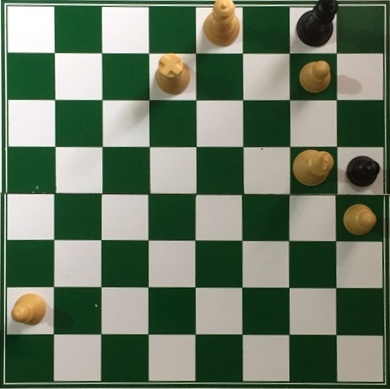black-king: (295, 1, 340, 50)
black-pawn: (344, 153, 381, 188)
white-king: (287, 149, 335, 188)
white-pawn: (10, 292, 49, 328), (297, 59, 334, 95), (341, 201, 378, 236)
white-queen: (201, 1, 241, 50)
white-rook: (153, 51, 191, 95)
